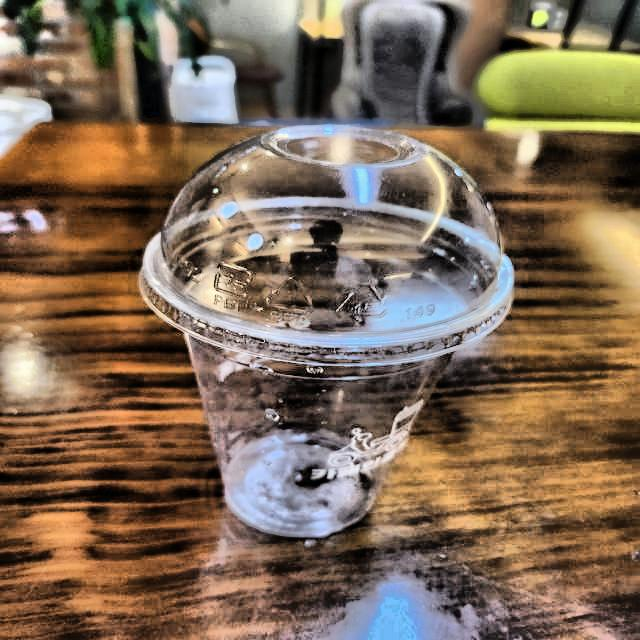plastic cup: (116, 98, 526, 584)
